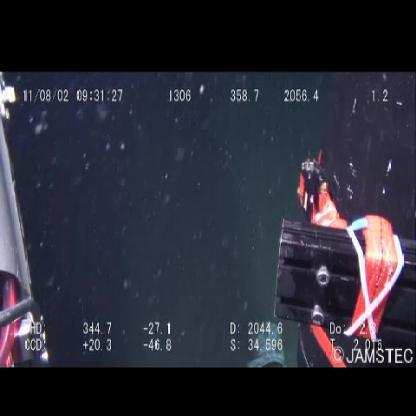Rác: (250, 320, 288, 371)
